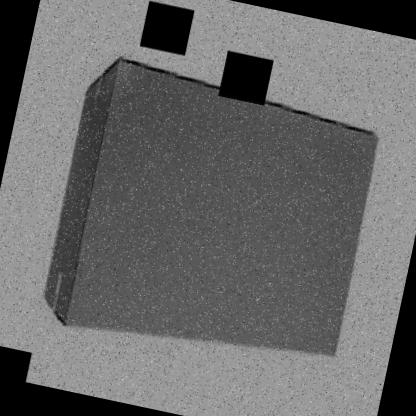box: (31, 44, 391, 387)
